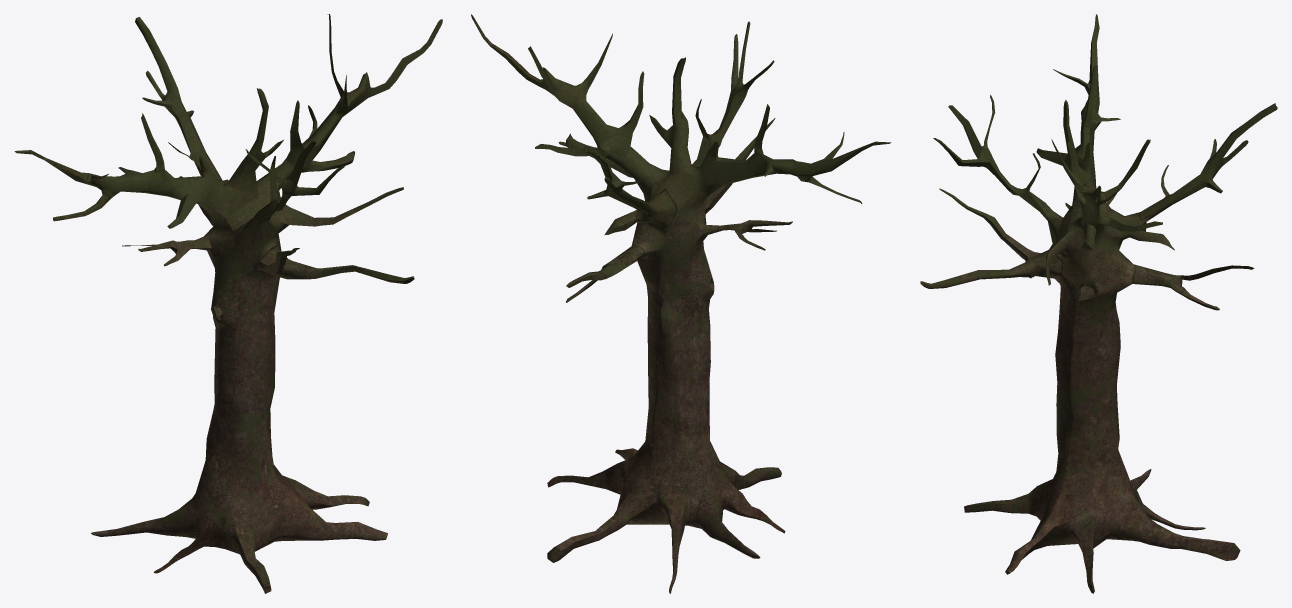
The model's file is BlockInterestingArena.fbx.
3 views of the same model, side by side, from view 1: azimuth 30°, elevation 25°; view 2: azimuth 150°, elevation 25°; view 3: azimuth 270°, elevation 25° (orthographic). The views are drawn at different scales.
Parts seen in each view (by area): view 1: Tree; view 2: Tree; view 3: Tree.
Boxes of the visible parts, x1,y1,x2,y2 form: Tree: (14,14,442,593); Tree: (471,14,891,593); Tree: (920,14,1277,593).
Size of the model in its own units: 185 by 204 by 141.
